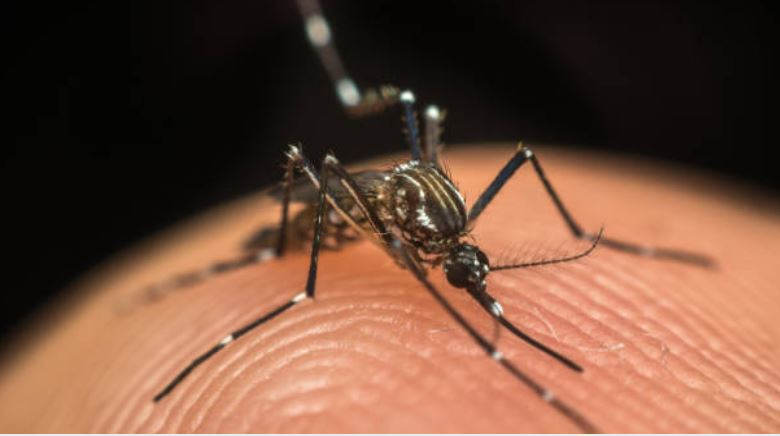dengue_mosquito: (276, 92, 602, 370)
